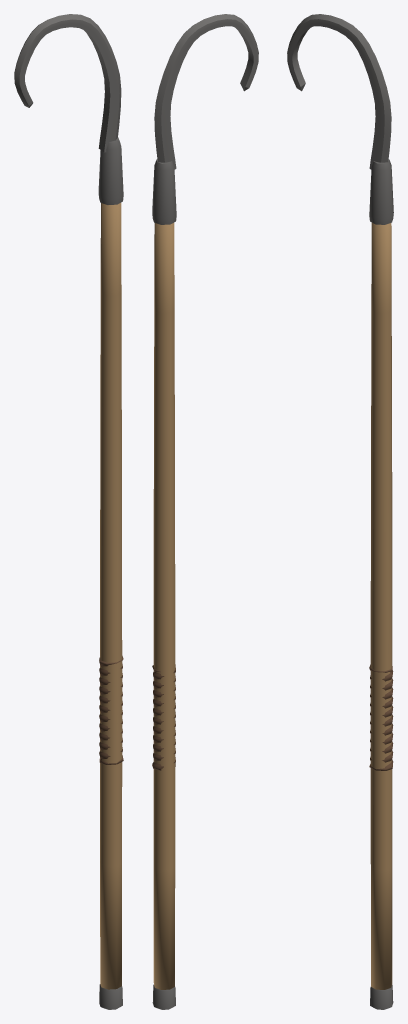
File: ogre-hook.glb
3 renders of one model, left to right at view 1: azimuth 30°, elevation 25°; view 2: azimuth 210°, elevation 25°; view 3: azimuth 330°, elevation 25°, orthographic. The views are drawn at different scales.
Parts seen in each view (by area): view 1: ogre-hook; view 2: ogre-hook; view 3: ogre-hook.
Boxes of the visible parts, x1,y1,x2,y2 form: ogre-hook: (14,14,123,1009); ogre-hook: (152,14,258,1009); ogre-hook: (287,14,393,1009).
Size of the model in its own units: 0.5564 by 4.93 by 0.116.
